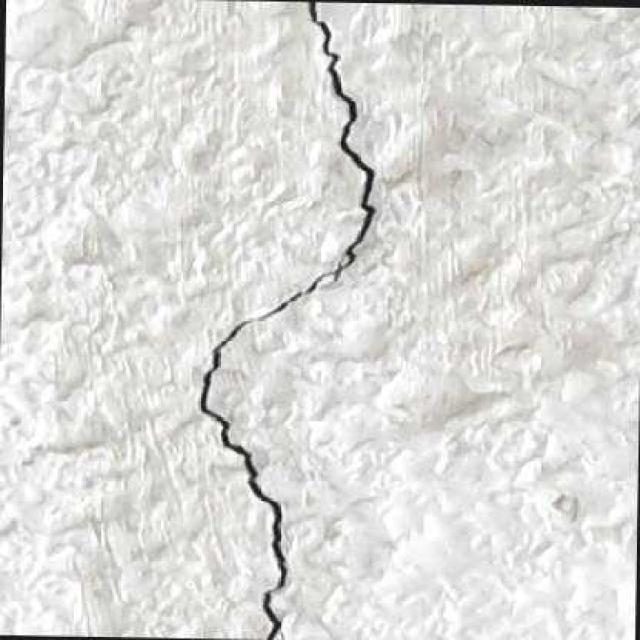D00: (196, 0, 376, 639)
